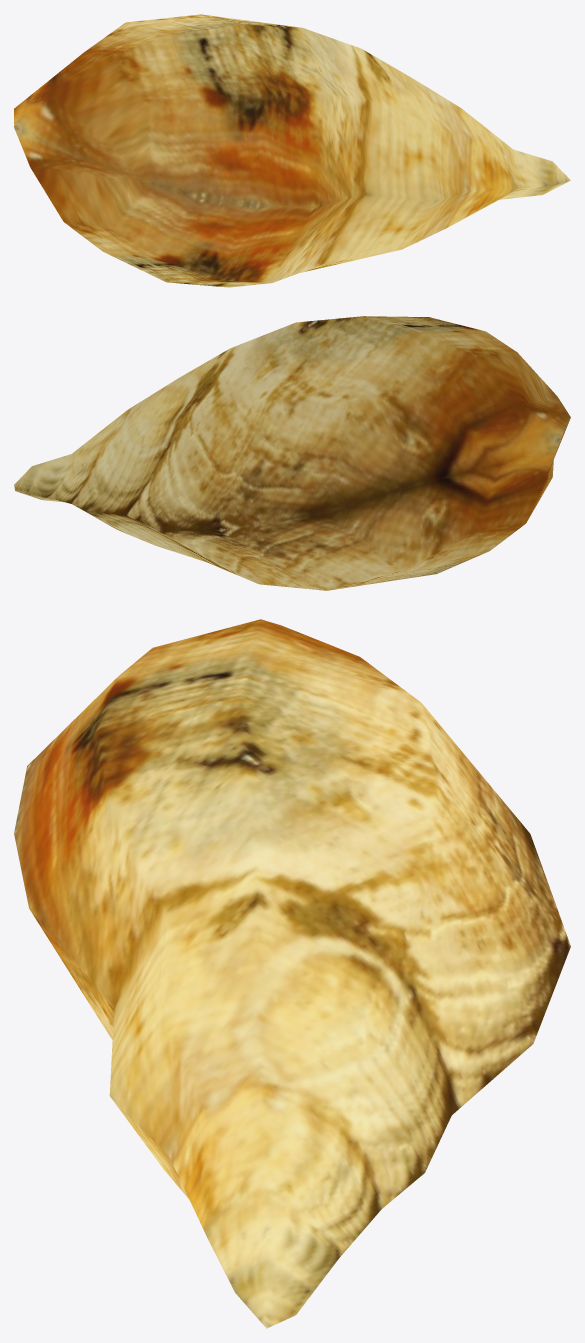
File: SeaShell-13_LOD0_FattooCreater.glb
3 views of the same model, one above another, from view 1: azimuth 30°, elevation 25°; view 2: azimuth 150°, elevation 25°; view 3: azimuth 270°, elevation 25° (orthographic). The views are drawn at different scales.
Parts seen in each view (by area): view 1: SeaShell-13_high; view 2: SeaShell-13_high; view 3: SeaShell-13_high.
Boxes of the visible parts, bbox=[...] form: SeaShell-13_high: bbox=[14, 14, 570, 287]; SeaShell-13_high: bbox=[14, 316, 570, 590]; SeaShell-13_high: bbox=[14, 619, 570, 1328].
Bounding box in the file's own units: 0.0289 × 0.0135 × 0.0165.
1 material, 1 textured.
